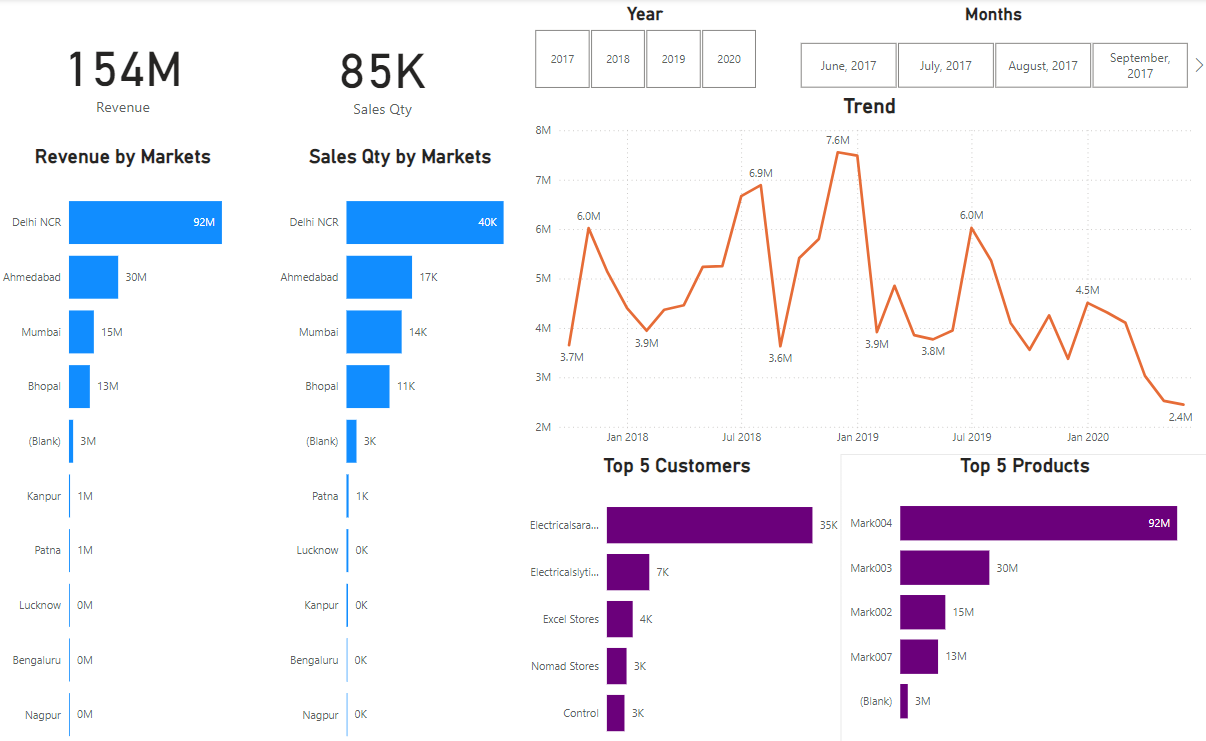

The page's visual inventory and layout, read from the dashboard file:
{"tool":"powerbi","page":{"name":"Page 1","canvas":[1350,850],"ordinal":0},"visuals":[{"type":"card","fields":{"Values":["Base Measures.Revenue"]},"box":[0,0,288.1,163.2],"z":0},{"type":"card","fields":{"Values":["Base Measures.Sales Qty"]},"box":[288.1,5,288.1,158.2],"z":1000},{"type":"barChart","title":"Revenue by Markets","fields":{"Y":["Base Measures.Revenue"],"Category":["markets.markets_name"]},"box":[0,163.2,288.1,686.1],"z":2000},{"type":"barChart","title":"Sales Qty by Markets","fields":{"Y":["Base Measures.Sales Qty"],"Category":["markets.markets_name"]},"box":[308.1,163.2,288.1,686.1],"z":3000},{"type":"slicer","title":"Year","fields":{"Values":["date.year"]},"box":[576.2,5,294.8,101.6],"z":4000},{"type":"slicer","title":"Months","fields":{"Values":["date.cy_date"]},"box":[871,6.7,479.6,99.9],"z":5000},{"type":"barChart","title":"Top 5 Customers","fields":{"Y":["Base Measures.Sales Qty"],"Category":["customers.custmer_name"]},"box":[576.2,506.3,366.4,334.7],"z":6000},{"type":"barChart","title":"Top 5 Products","fields":{"Category":["markets.markets_code"],"Y":["Base Measures.Revenue"]},"box":[941.1,506.3,409.6,319.3],"z":7000},{"type":"lineChart","title":"Trend","fields":{"Y":["Base Measures.Revenue"],"Category":["date.cy_date.Variation.Date Hierarchy.Year","date.cy_date.Variation.Date Hierarchy.Quarter","date.cy_date.Variation.Date Hierarchy.Month","date.cy_date.Variation.Date Hierarchy.Day"]},"box":[596.6,107.1,754.1,399.1],"z":8000}]}

Visuals, with their boxes in screenshot pixels (x1, y1, x2, y2), scaled from the page's 1350x850 canvas onto the 1206x741 screenshot:
card - Base Measures.Revenue: box(0, 0, 257, 142)
card - Base Measures.Sales Qty: box(257, 4, 515, 142)
"Revenue by Markets" barChart: box(0, 142, 257, 740)
"Sales Qty by Markets" barChart: box(275, 142, 533, 740)
"Year" slicer: box(515, 4, 778, 93)
"Months" slicer: box(778, 6, 1205, 93)
"Top 5 Customers" barChart: box(515, 441, 842, 733)
"Top 5 Products" barChart: box(841, 441, 1205, 720)
"Trend" lineChart: box(533, 93, 1205, 441)
